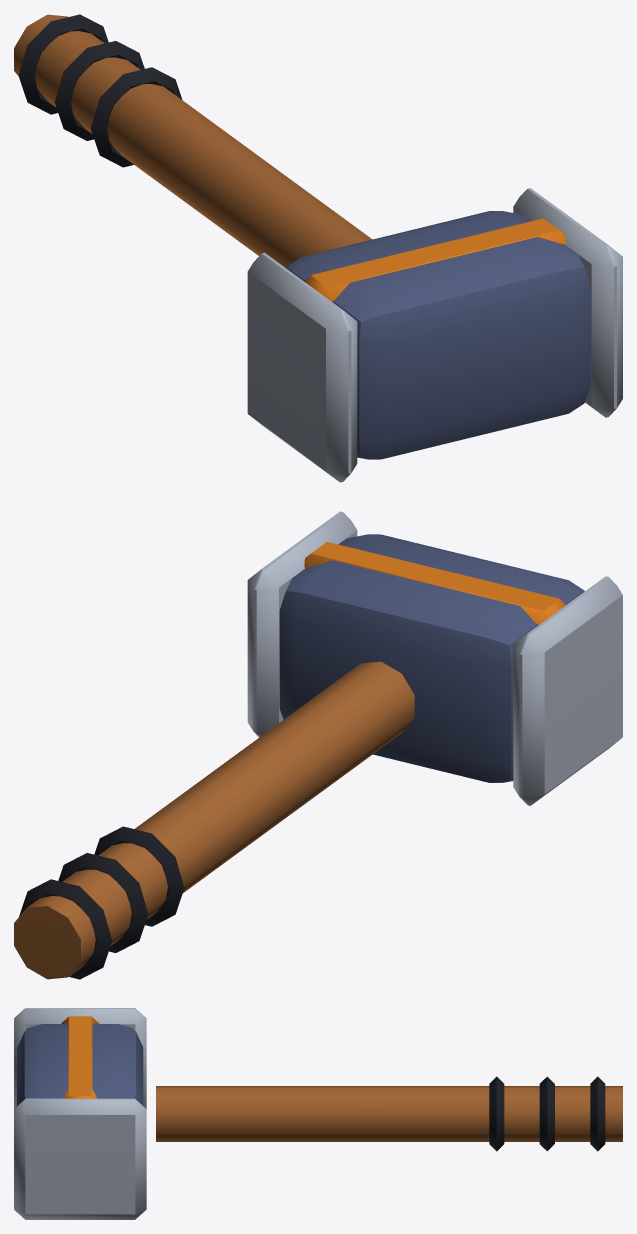
File: w_b_hammer.glb
3 renders of one model, top to bottom at view 1: azimuth 30°, elevation 25°; view 2: azimuth 150°, elevation 25°; view 3: azimuth 270°, elevation 25°, orthographic. The views are drawn at different scales.
Visible parts, largest first — view 1: body; view 2: body; view 3: body.
Boxes of the visible parts, x1,y1,x2,y2 form: body: (14,14,622,482); body: (14,511,622,979); body: (14,1008,622,1219).
Bounding box in the file's own units: 0.323 × 0.1785 × 0.8203.
